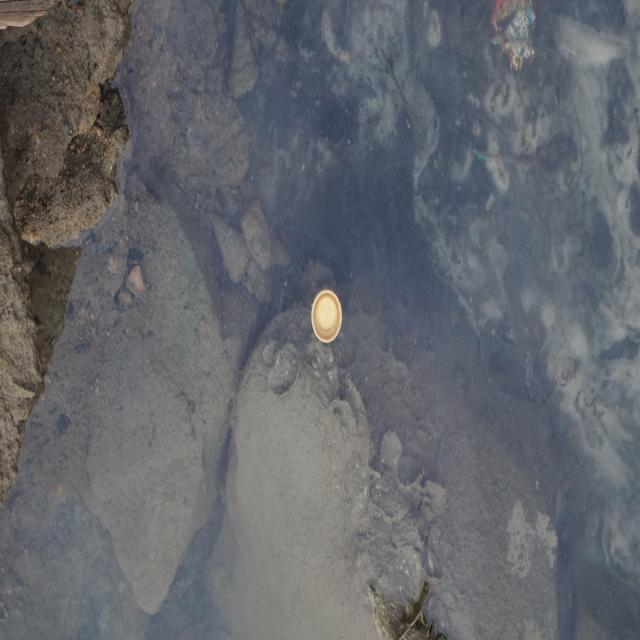Botol Plastik: (307, 284, 346, 353)
